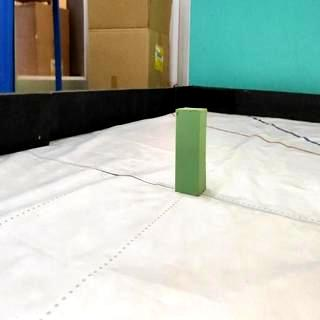greenbox: (175, 106, 208, 198)
